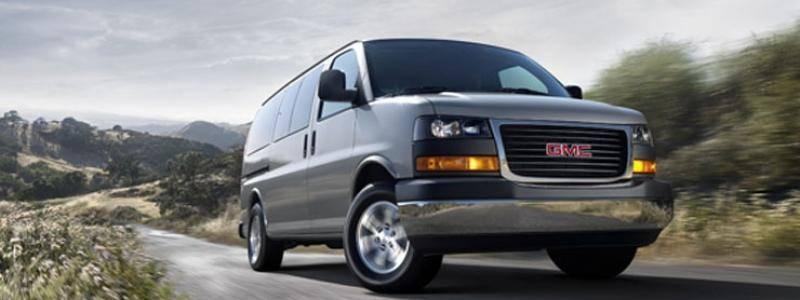GMC: (544, 136, 596, 165)
